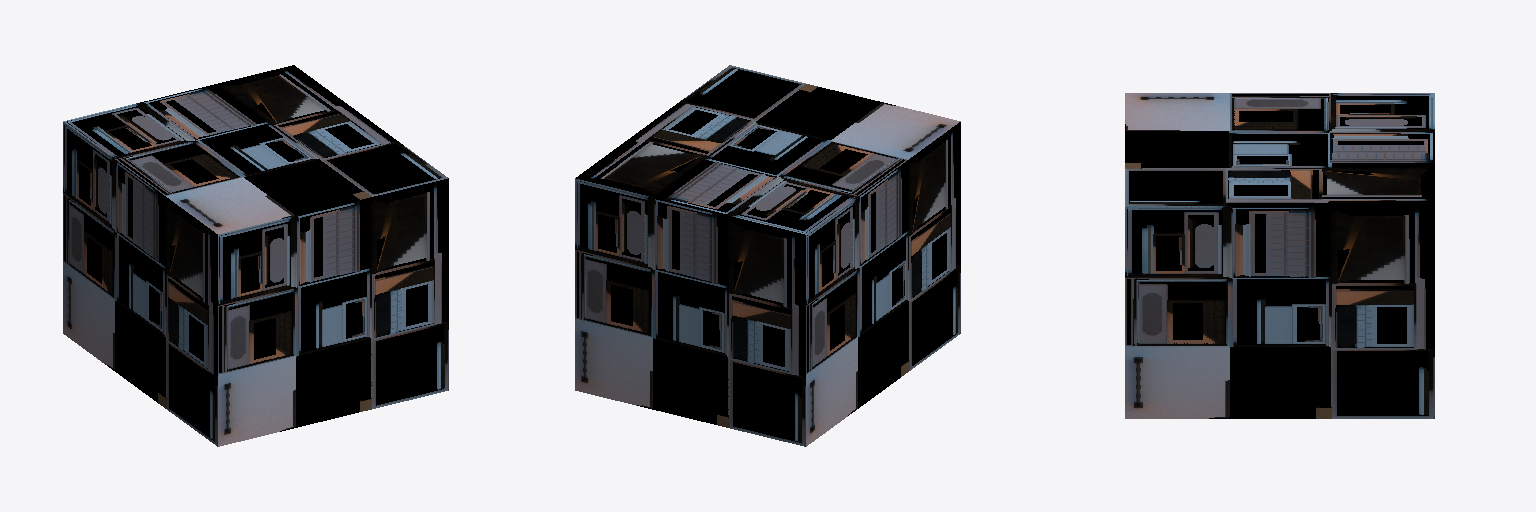
3 renders of one model, left to right at view 1: azimuth 30°, elevation 25°; view 2: azimuth 150°, elevation 25°; view 3: azimuth 270°, elevation 25°, orthographic.
Parts seen in each view (by area): view 1: Box011; view 2: Box011; view 3: Box011.
Part boxes in pixels (left/top/right/bottom): Box011: left=63, top=65, right=448, bottom=446; Box011: left=575, top=65, right=960, bottom=446; Box011: left=1125, top=93, right=1434, bottom=418.
Bounding box in the file's own units: 2.65 × 2.33 × 3.08.
1 materials, 1 textured.